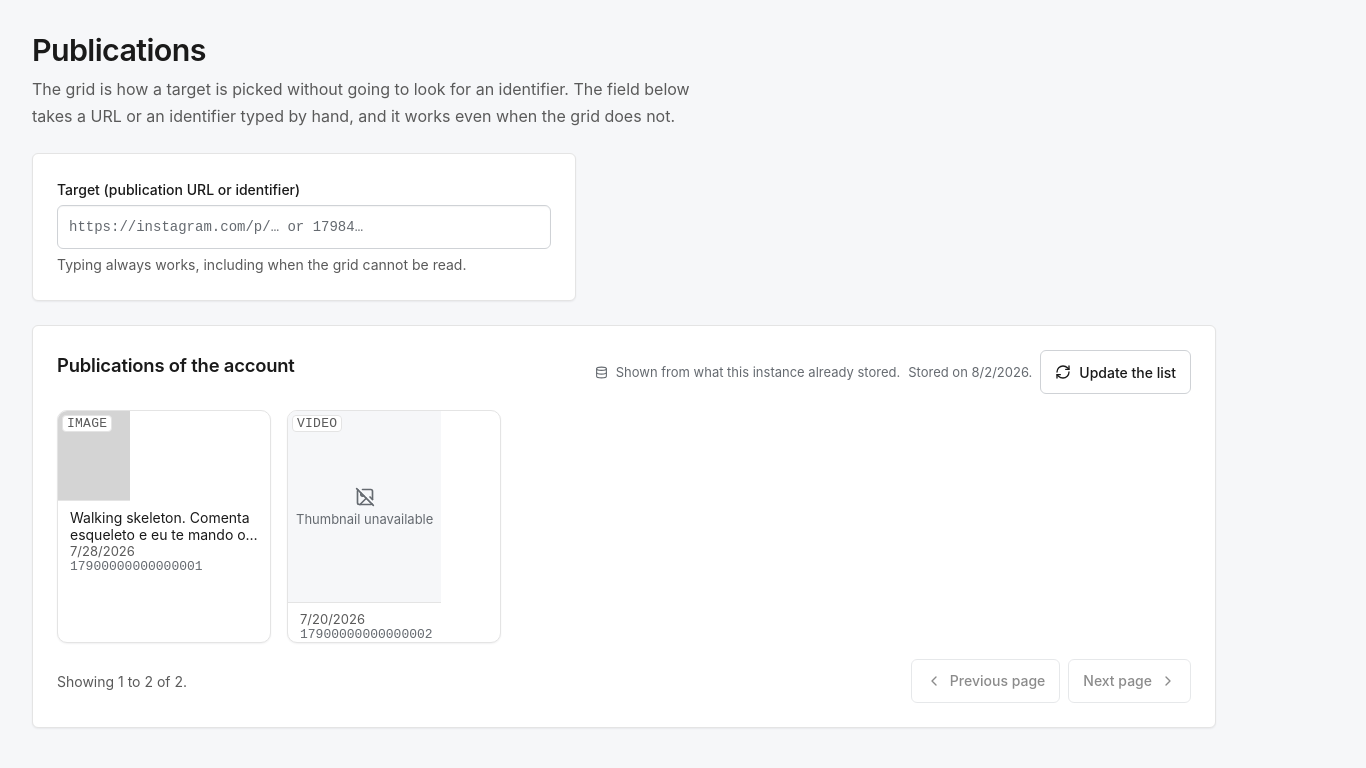
Test: REQ-069: the publication grid (criterion 28) › stops claiming a target was chosen once it is typed over
This screenshot has width=1366, height=768.
Click the button "Thumbnail unavailable VIDEO 7/20/2026 17900000000000002": coordinates (394, 527) [288,412,500,642]
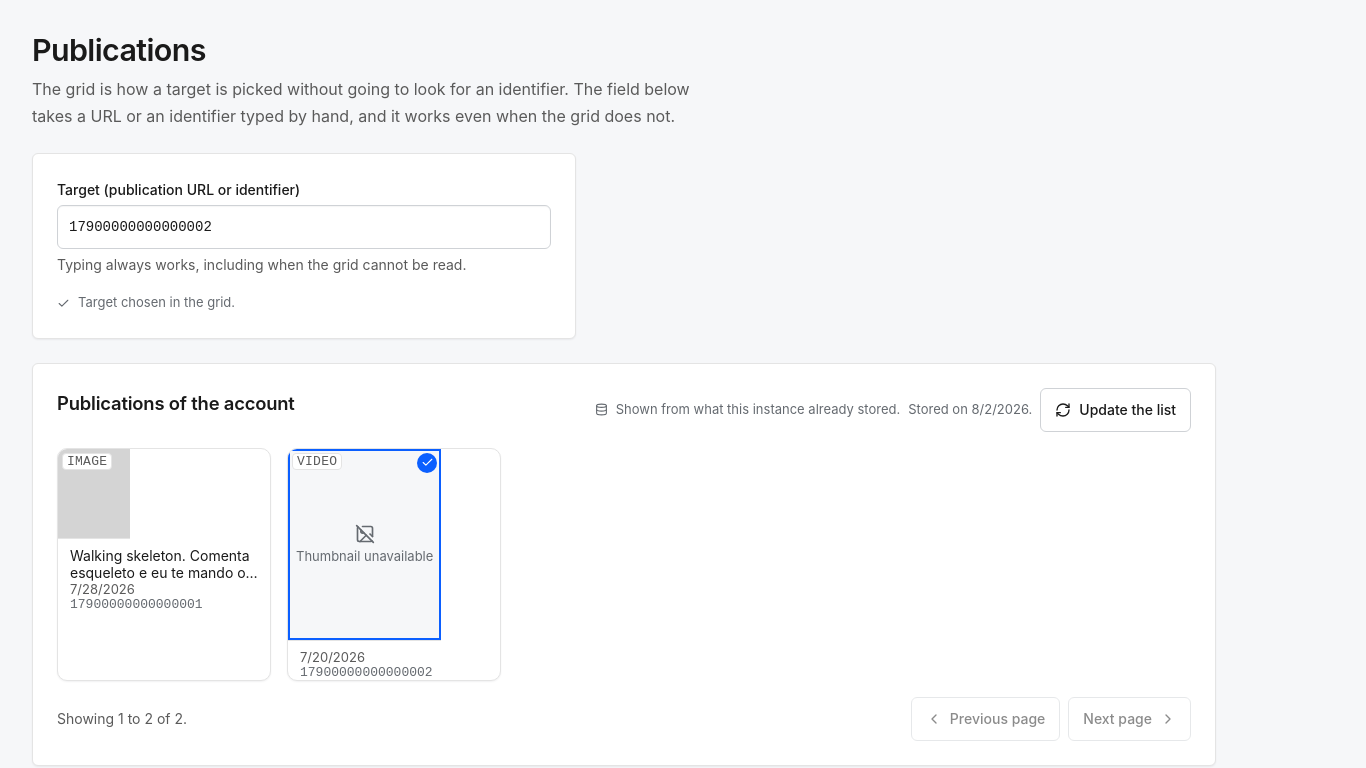
In the field labelled "Target (publication URL or identifier)": coordinates (304, 227) [57,205,551,249], type "x"
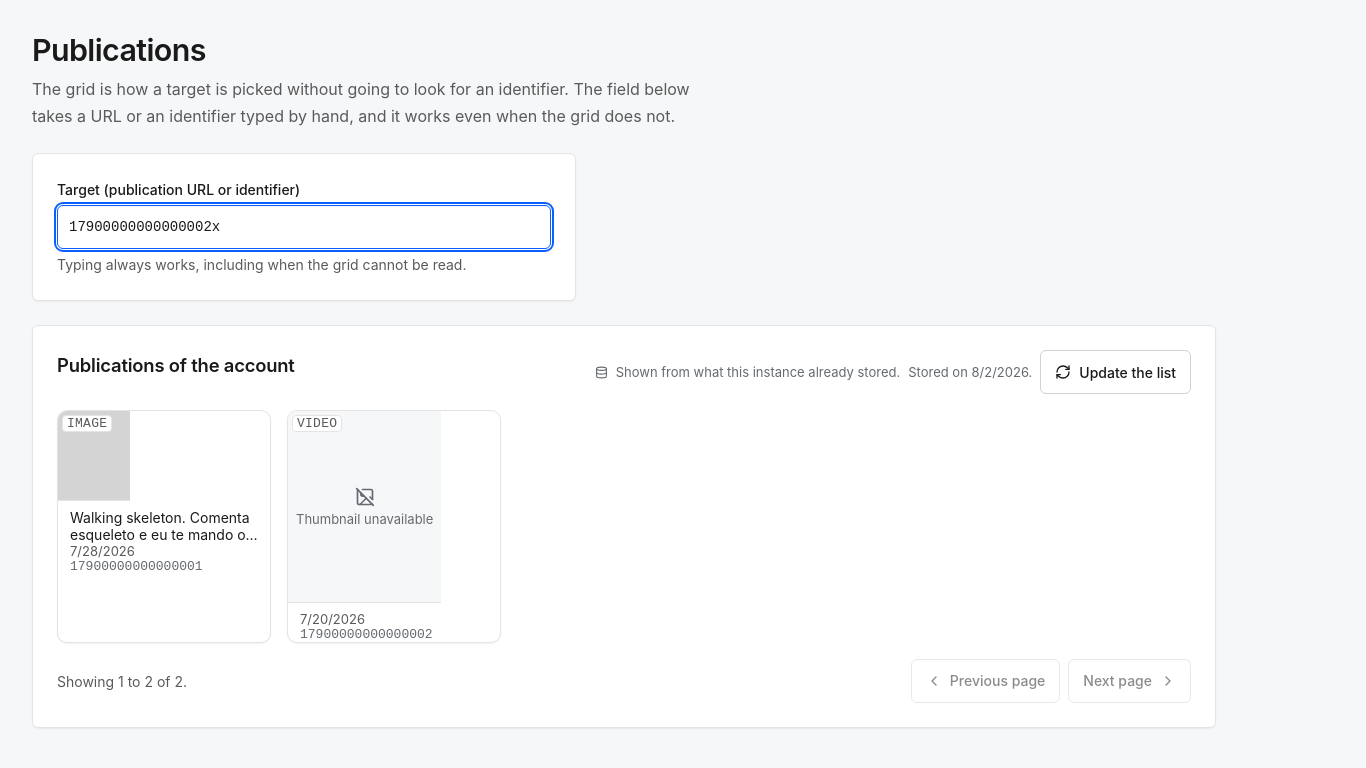
Expected: the text "Target chosen in the grid." is gone
